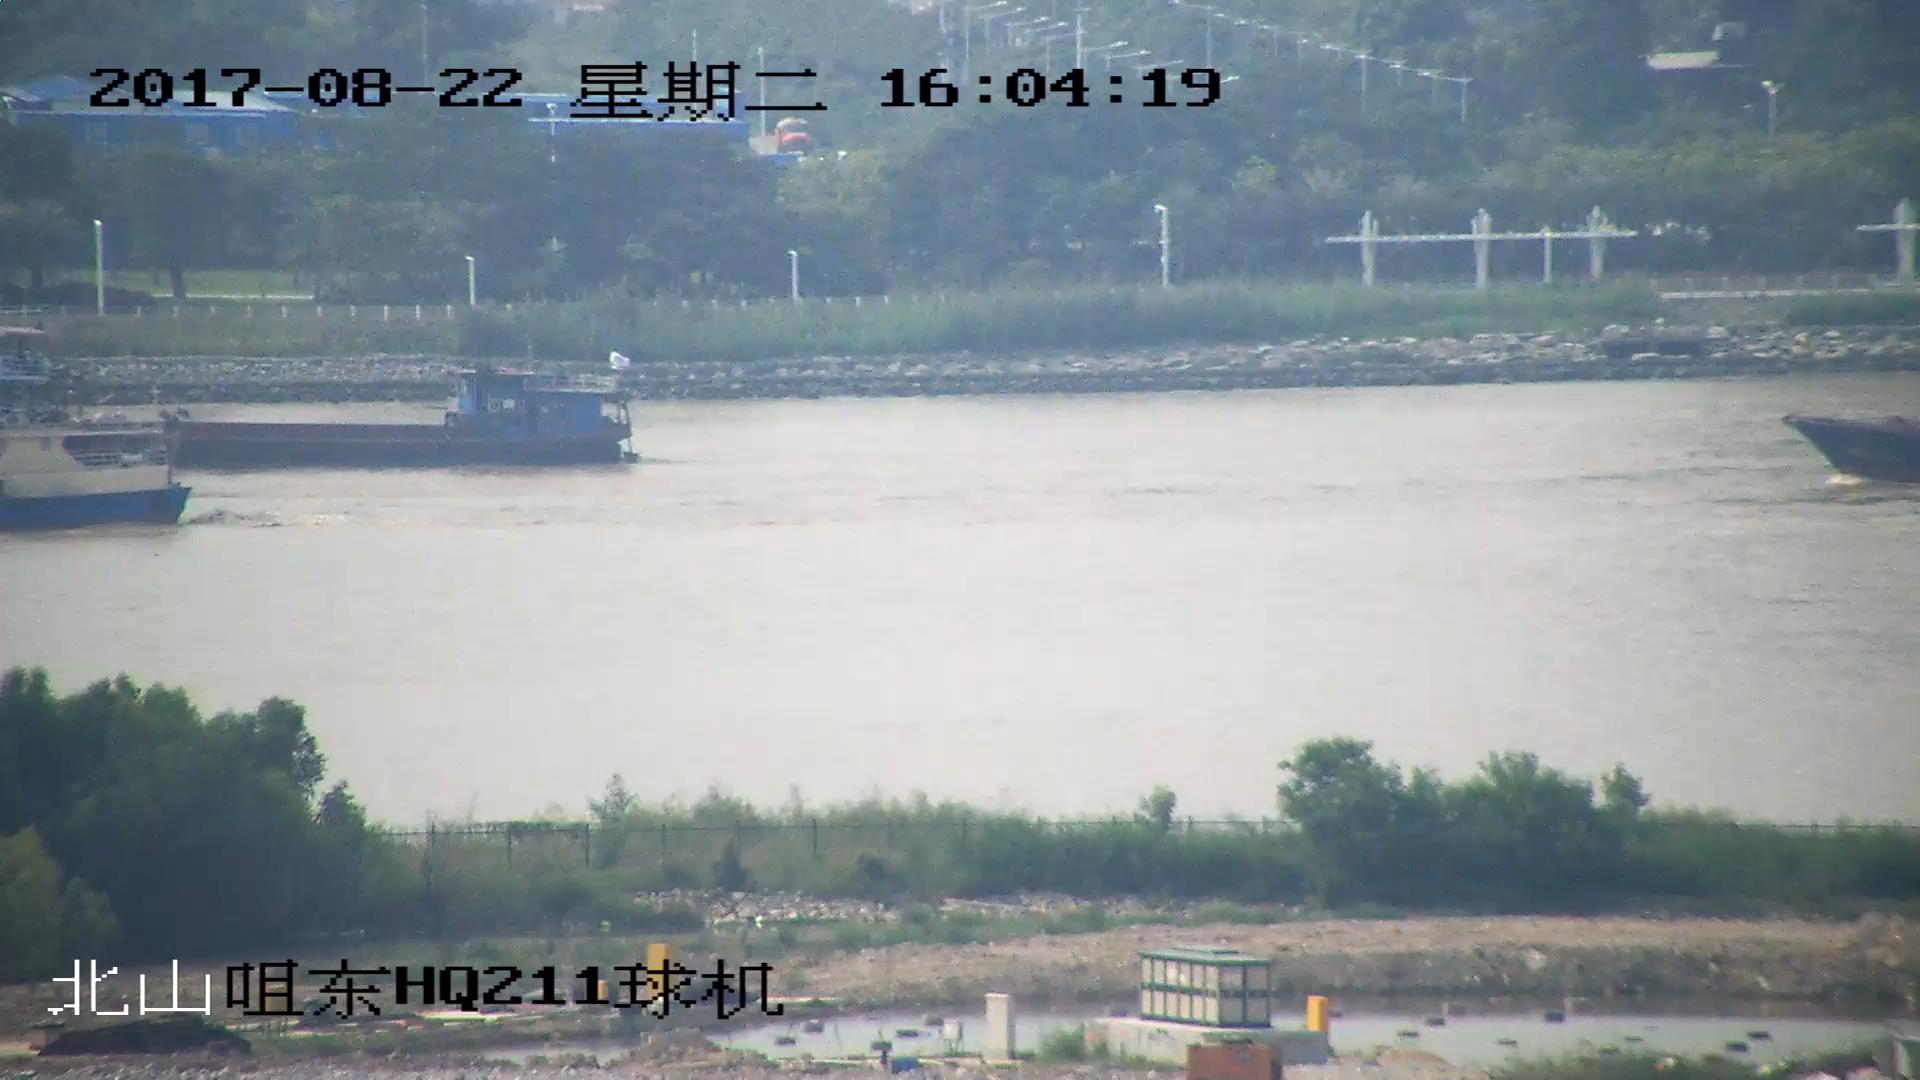bulk cargo carrier: (1, 349, 644, 471)
fishing boat: (1, 405, 199, 539)
